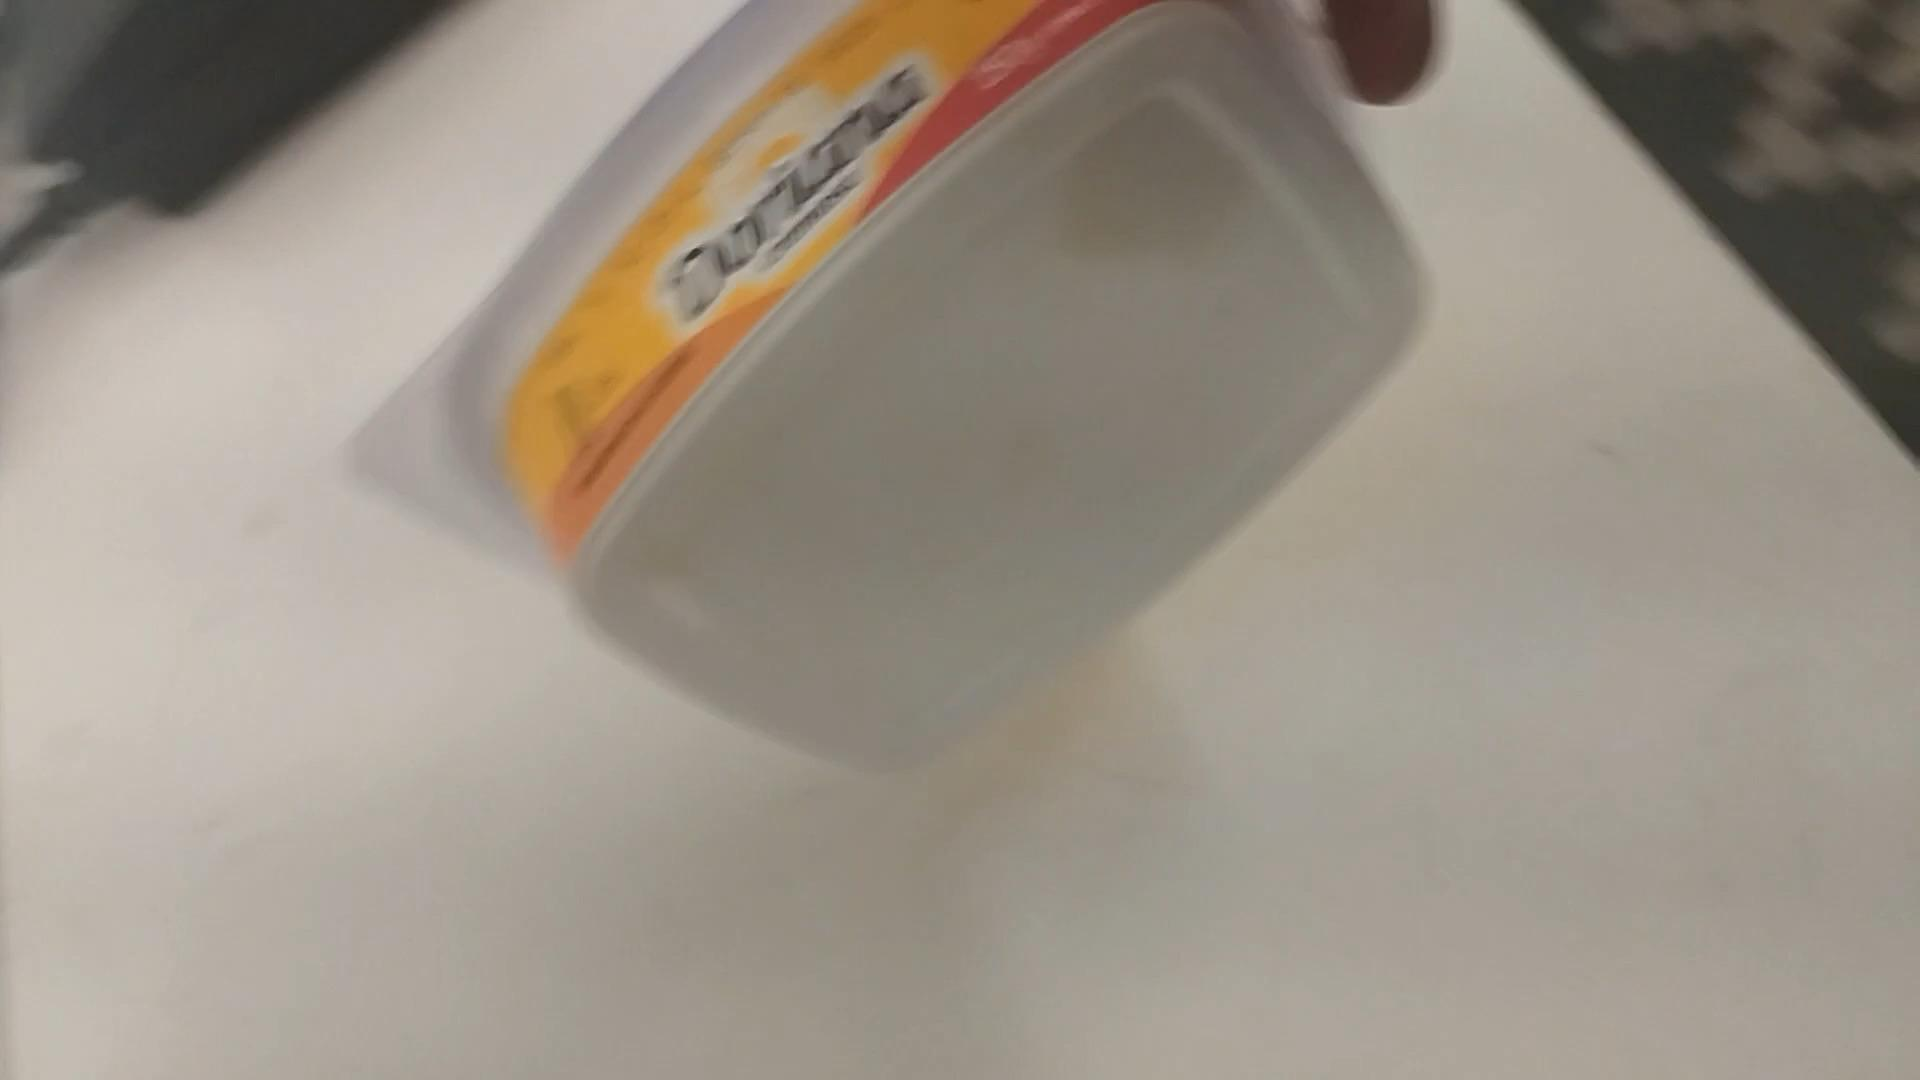butter: (313, 0, 1456, 777)
